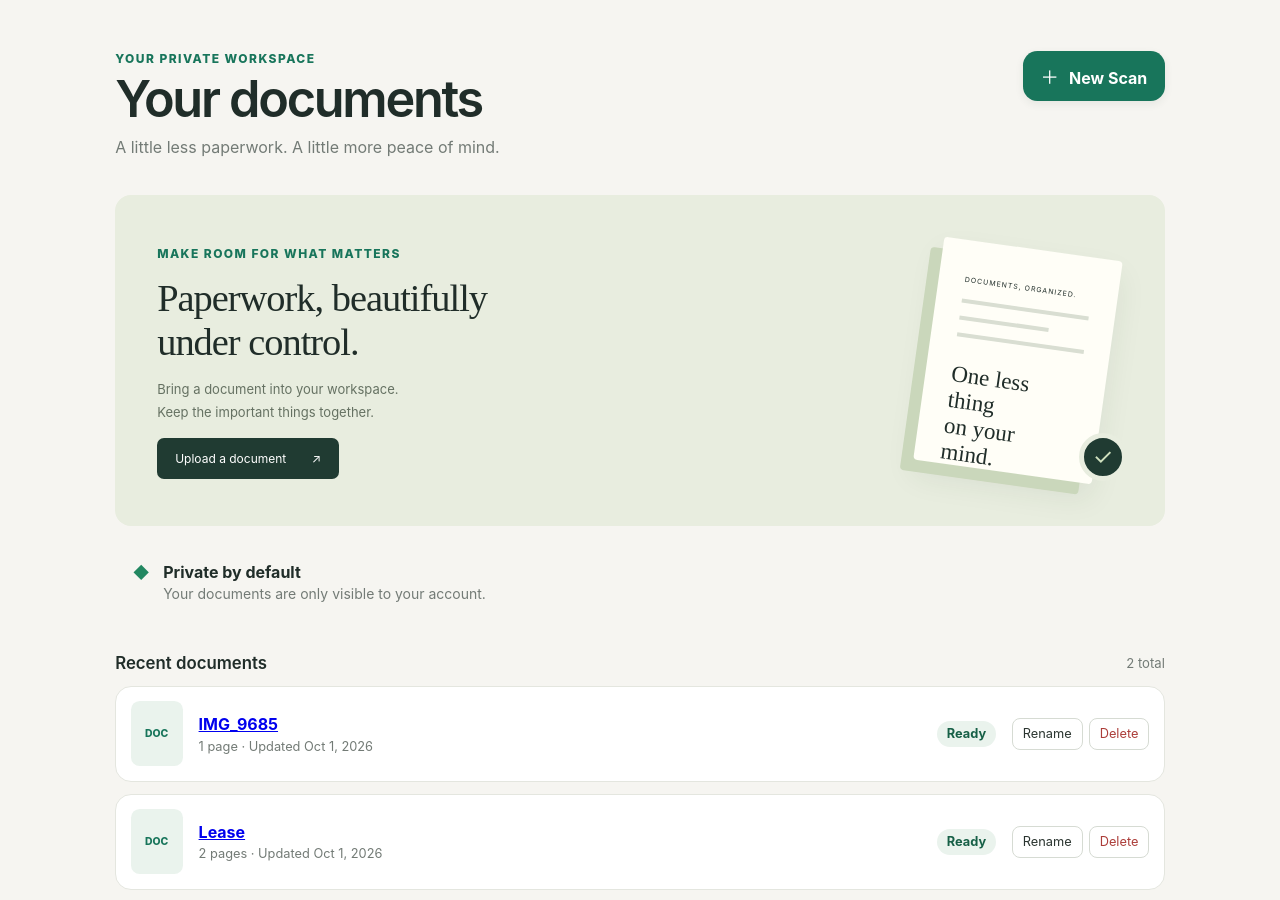
Test case: DocumentListComponent › deletes after an in-card confirmation and renames inline, without browser pop-ups
The width and height of the screenshot is (1280, 900).
Click the button "Delete" in the row of "Lease": (1119, 842) [1089,826,1149,858]
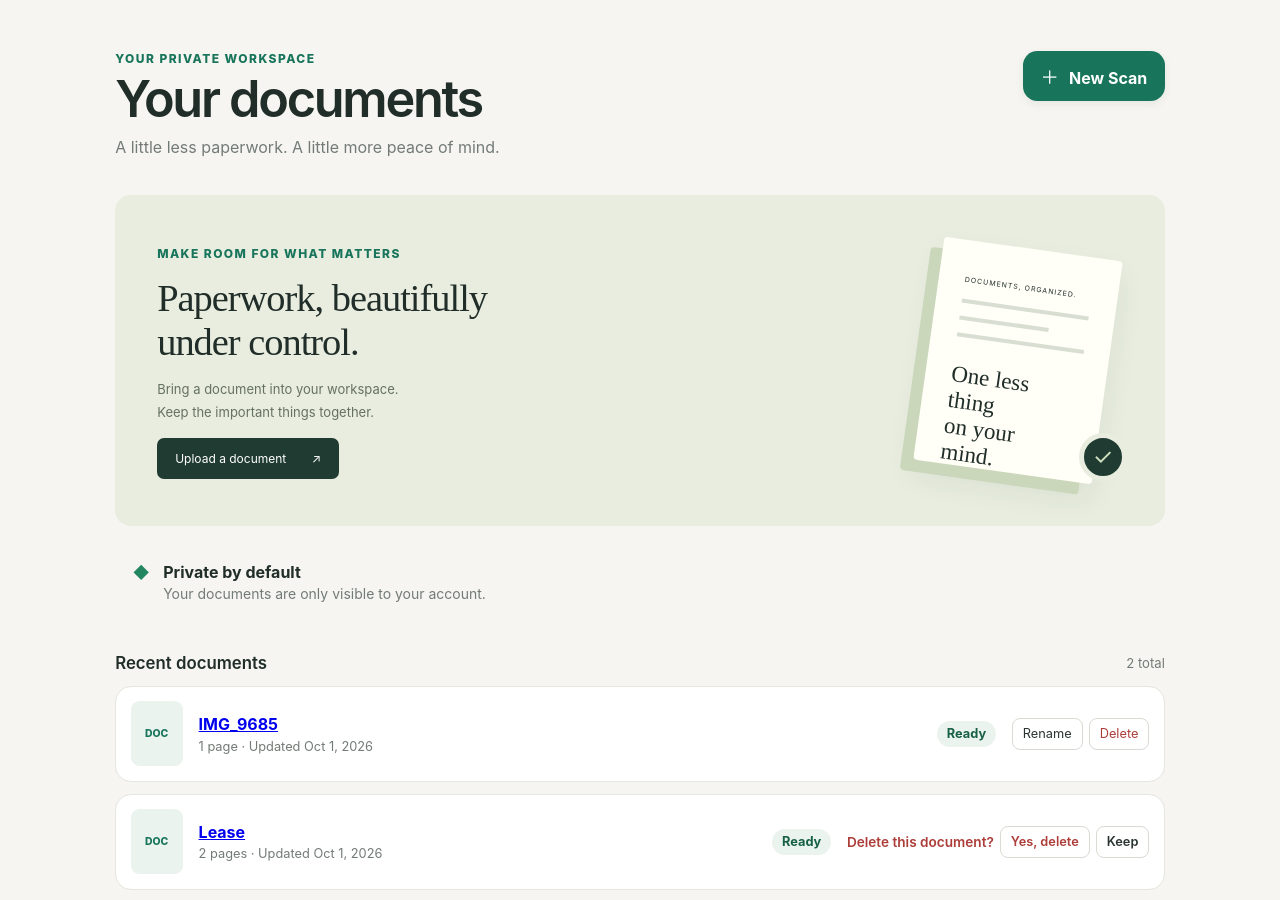
Click the button "Keep": (1123, 842) [1096,826,1149,858]
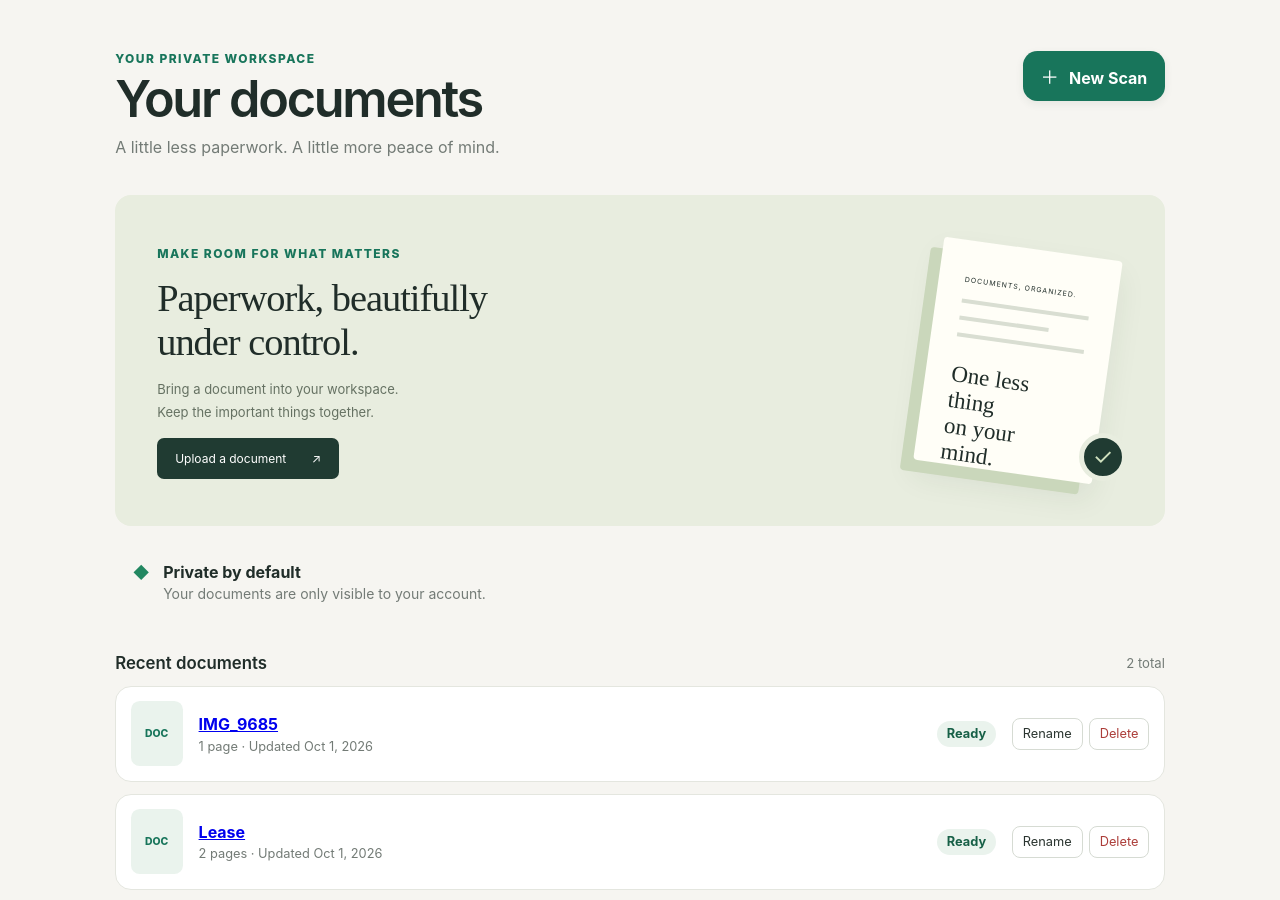
Click the button "Delete" in the row of "Lease": (1119, 842) [1089,826,1149,858]
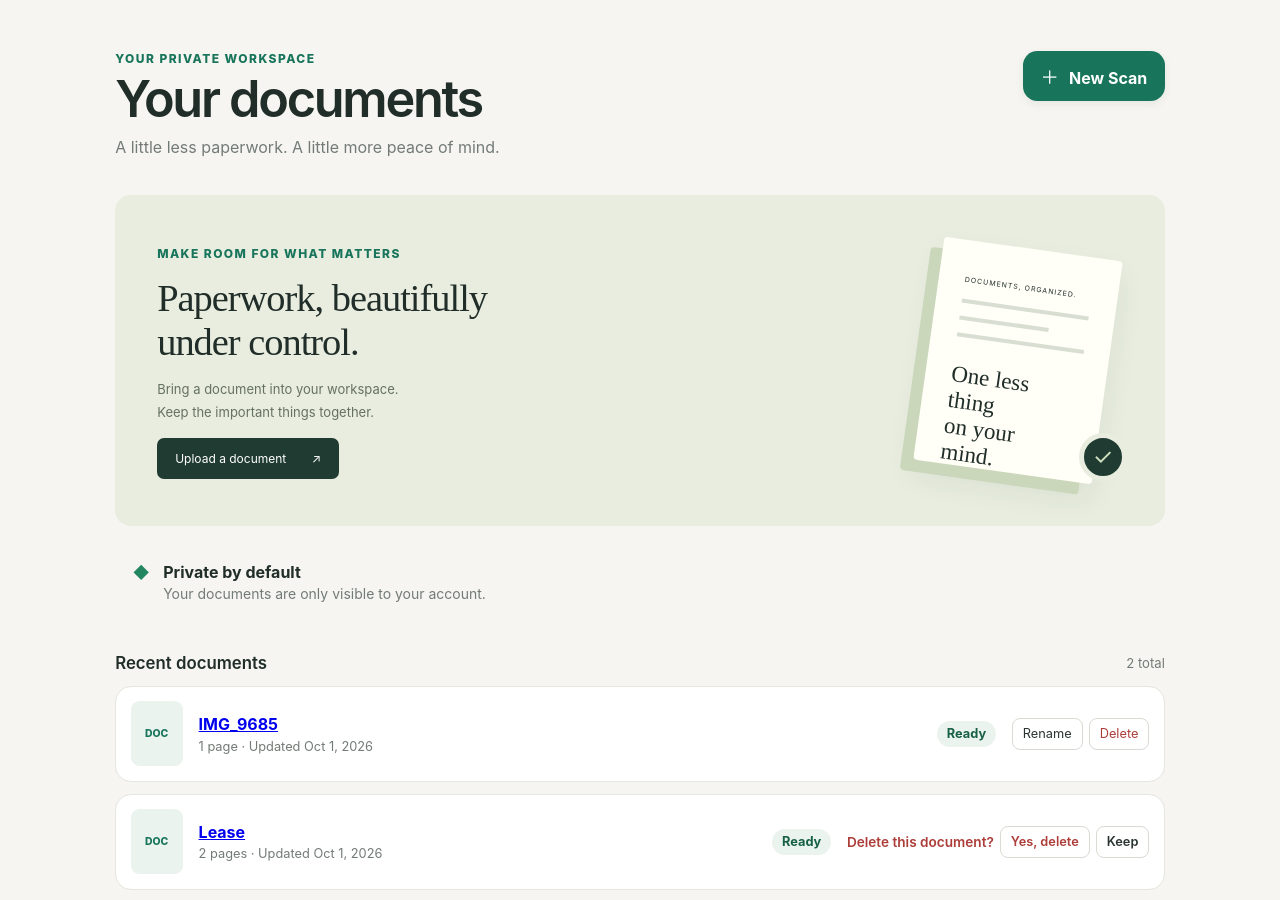
Click the button "Yes, delete": (1045, 842) [1000,826,1090,858]
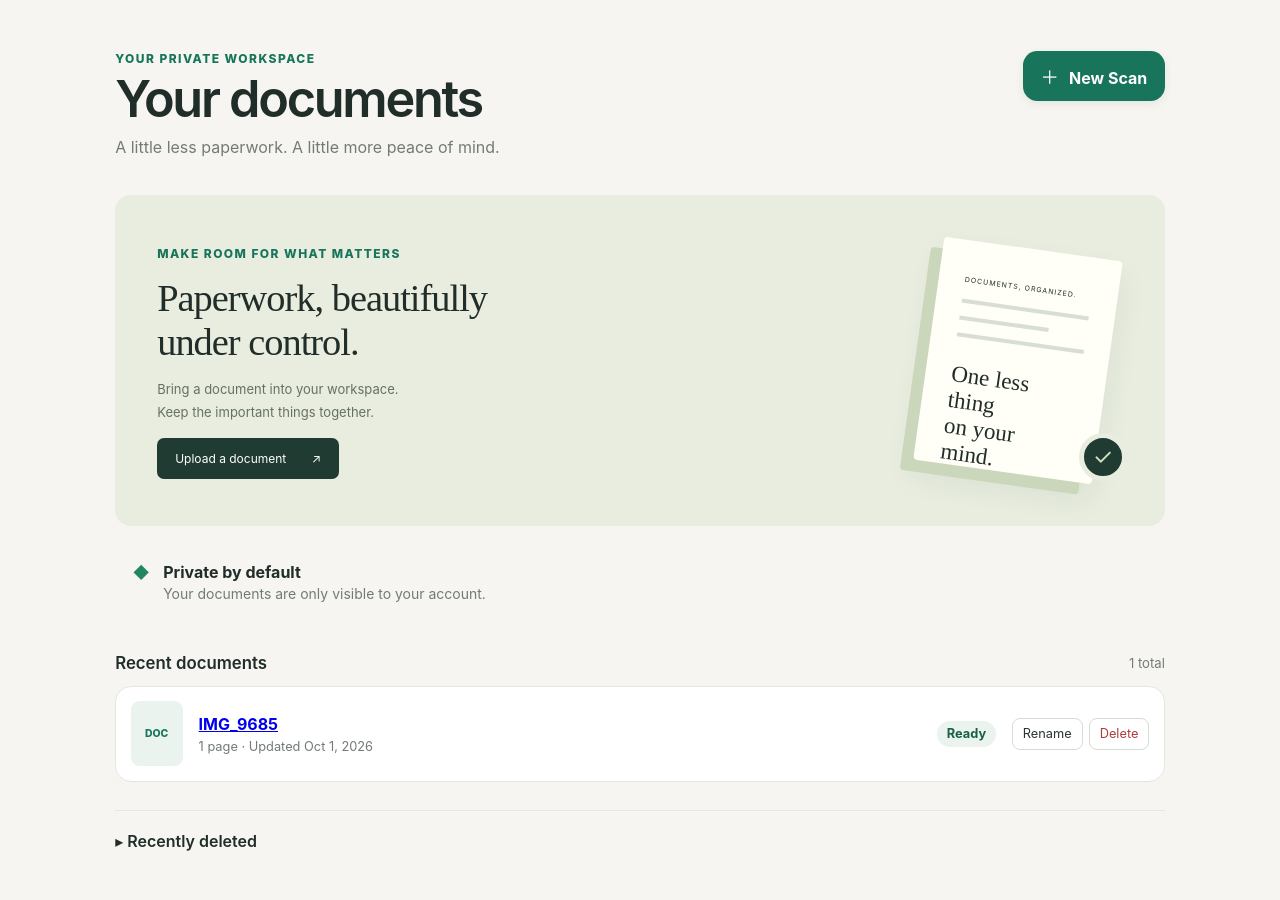
Now the text "Lease" is gone
Click the button "Rename": (1047, 734) [1012,718,1083,750]
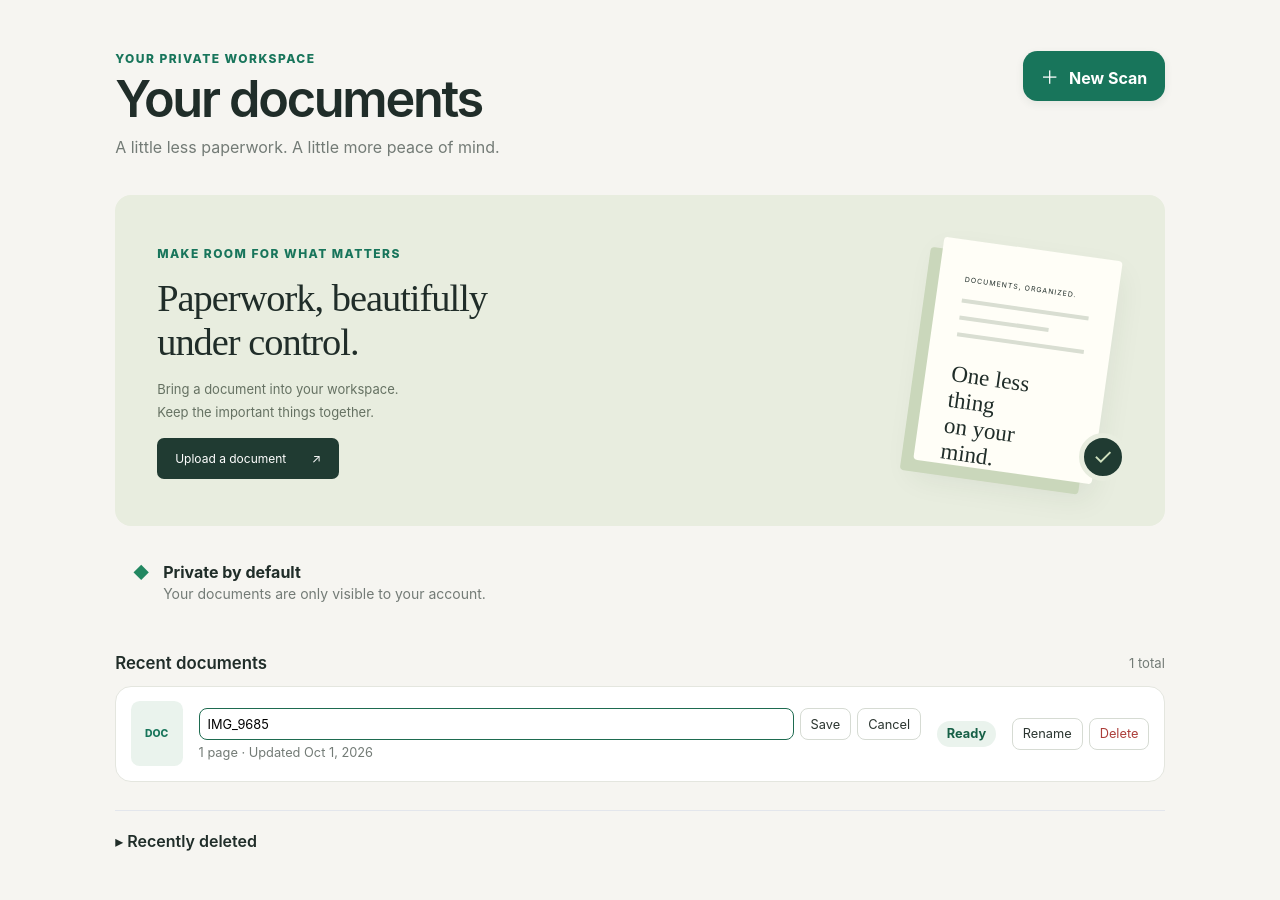
Now the field named "Rename document" holds "IMG_9685"
Replace the text in the field named "Rename document" with "  Tenancy agreement ": (496, 724) [199,708,794,740]
Press Enter in the field named "Rename document", box [199,708,794,740]
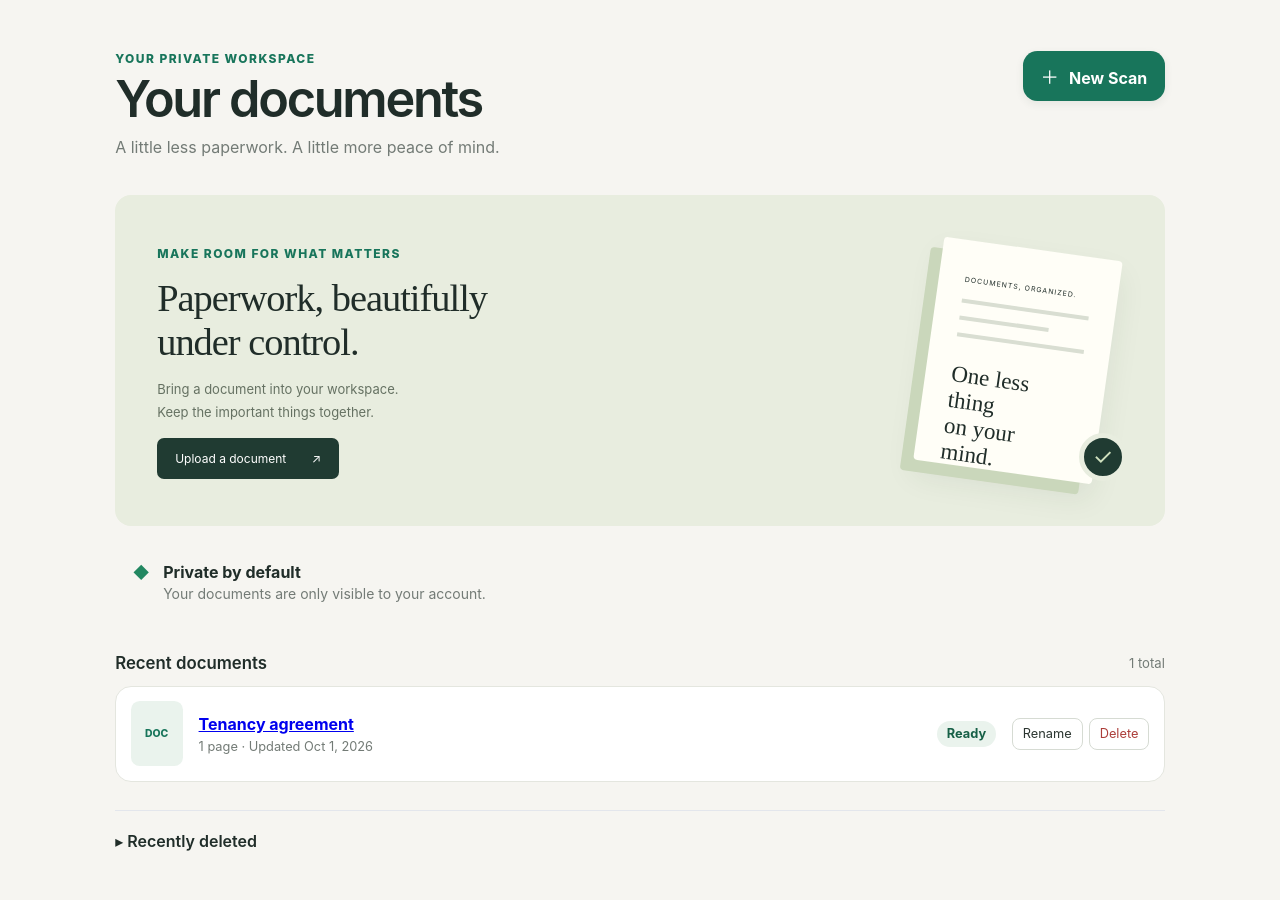
Now the text "Tenancy agreement" is shown, box [199,714,354,734]
